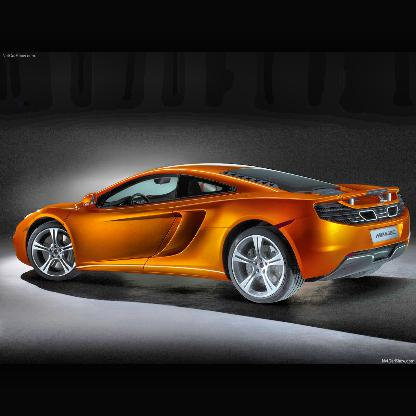McLaren MP4-12C Coupe 2012: (13, 164, 411, 308)
